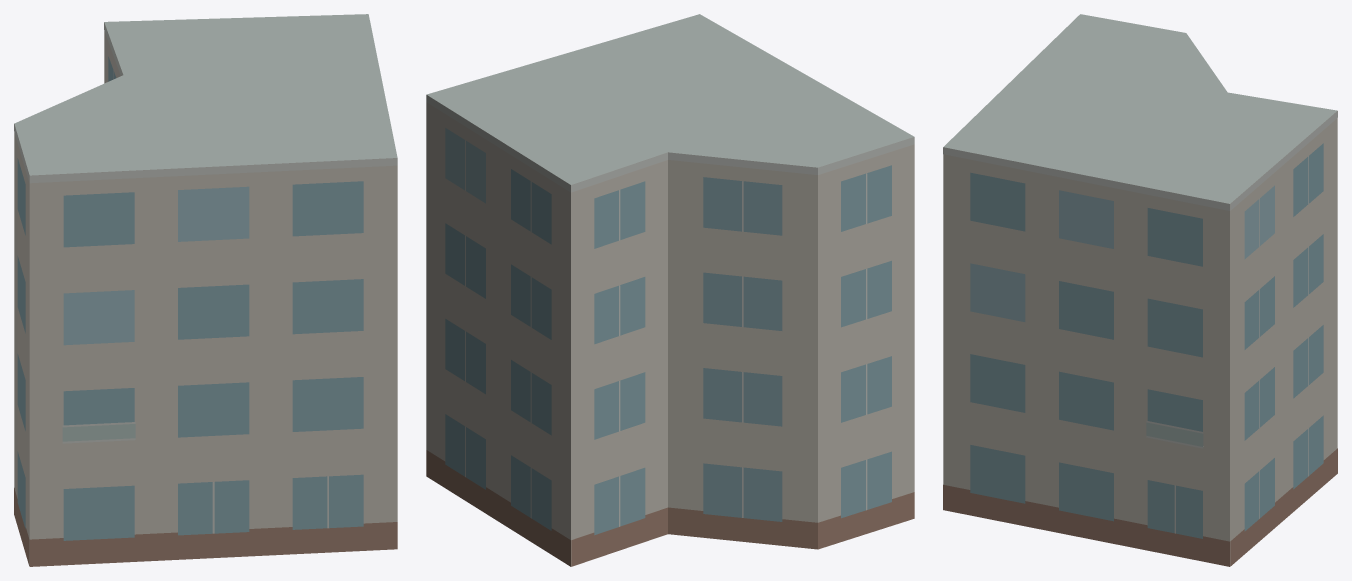
File: survey-upis-32726995.glb
3 views of the same model, side by side, from view 1: azimuth 30°, elevation 25°; view 2: azimuth 150°, elevation 25°; view 3: azimuth 270°, elevation 25° (orthographic). The views are drawn at different scales.
Parts seen in each view (by area): view 1: survey-upis-32726995.tmp; view 2: survey-upis-32726995.tmp; view 3: survey-upis-32726995.tmp.
Boxes of the visible parts, <box> form: survey-upis-32726995.tmp: <box>14,14,397,566</box>; survey-upis-32726995.tmp: <box>426,14,914,566</box>; survey-upis-32726995.tmp: <box>943,14,1337,566</box>.
Size of the model in its own units: 13.93 by 12.4 by 12.23.
